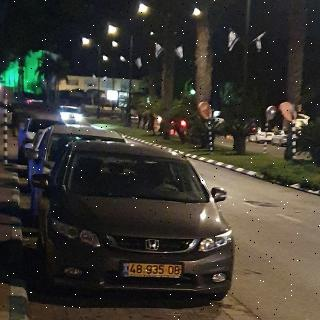LicensePlate: (129, 263, 182, 276)
